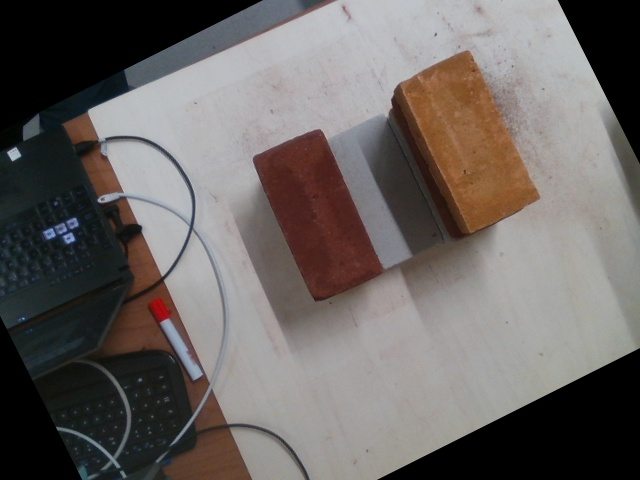brick: (400, 52, 541, 232), (252, 129, 382, 301), (326, 113, 444, 269)
